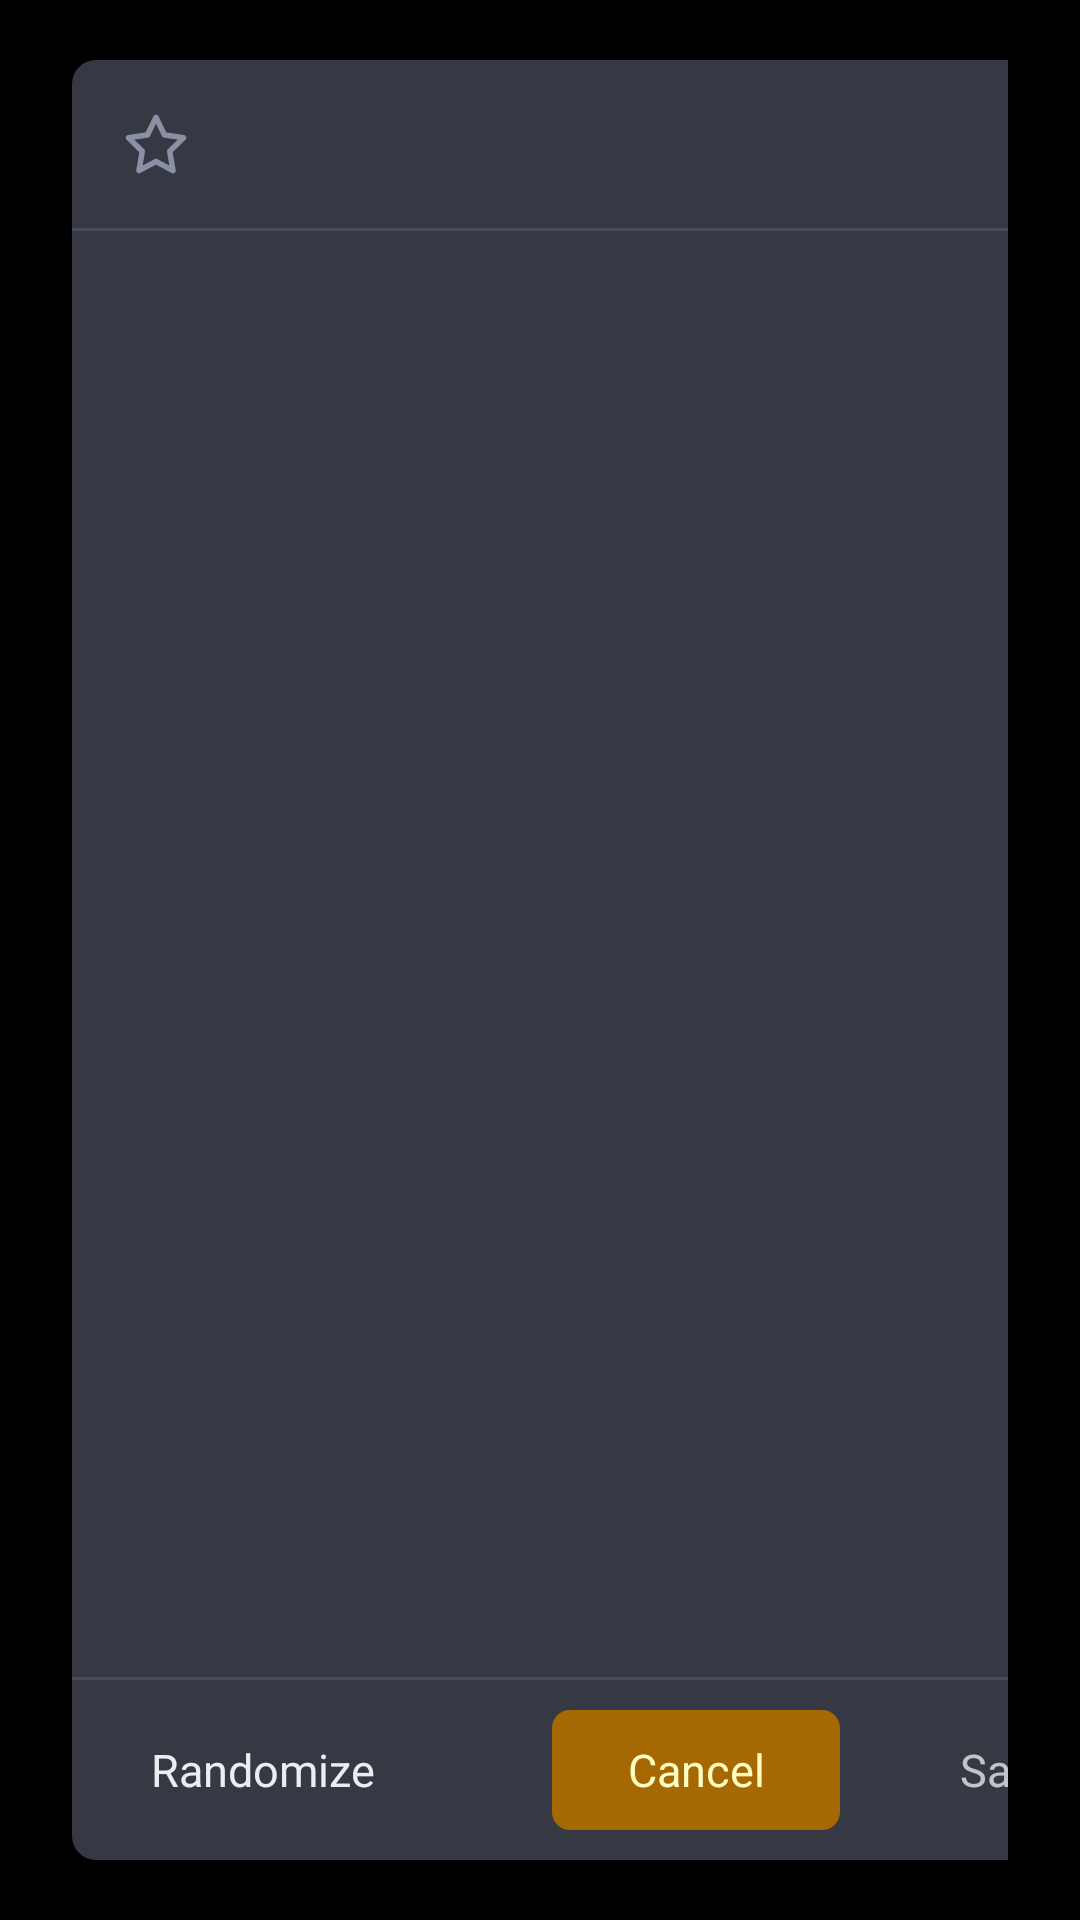

Where to tap for icons on this 1080*1920 app screen, as (x=x, y=y):
Favorite: (x=156, y=144)
